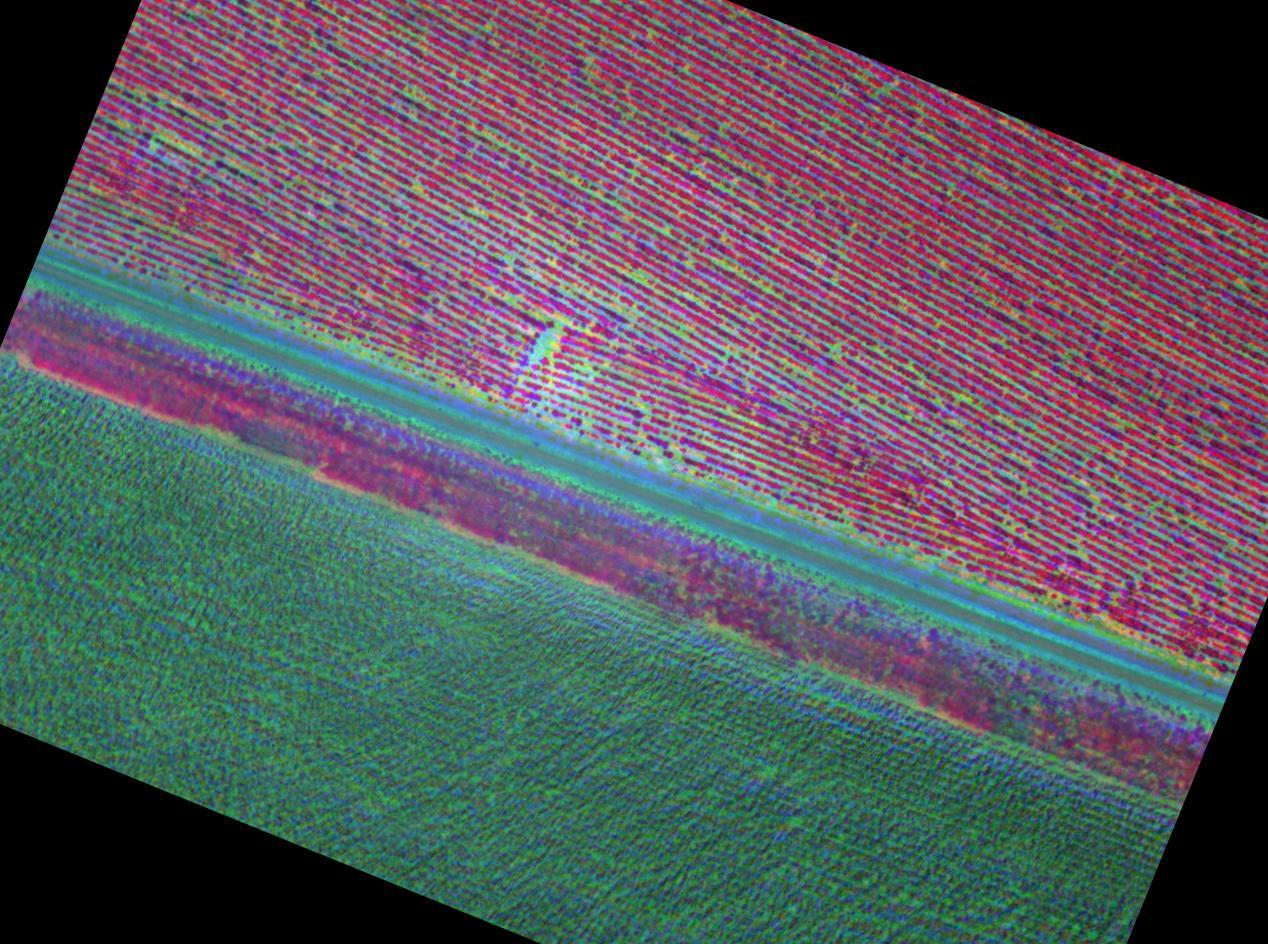dc: (537, 349, 545, 356), (547, 334, 554, 341), (151, 142, 156, 148), (833, 344, 838, 350), (956, 395, 961, 401), (408, 94, 414, 99), (254, 254, 259, 259), (506, 252, 510, 257), (125, 211, 129, 215), (171, 229, 175, 233), (481, 27, 485, 31)
